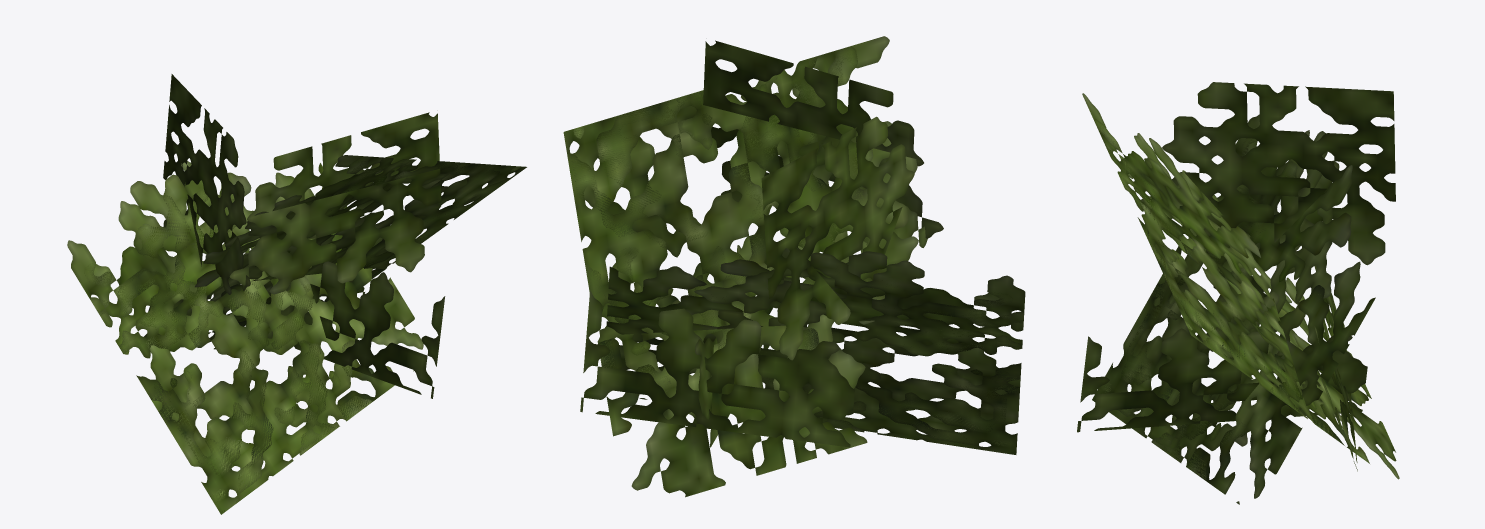
File: chestnut_leaves_slab.obj
3 views of the same model, side by side, from view 1: azimuth 30°, elevation 25°; view 2: azimuth 150°, elevation 25°; view 3: azimuth 270°, elevation 25° (orthographic). The views are drawn at different scales.
Parts seen in each view (by area): view 1: cube; view 2: cube; view 3: cube.
Part boxes in pixels (x1,y1,x2,y2): cube: (67, 74, 526, 514); cube: (563, 36, 1025, 497); cube: (1077, 82, 1399, 504).
Bounding box in the file's own units: 2.99 × 2.22 × 2.1.
